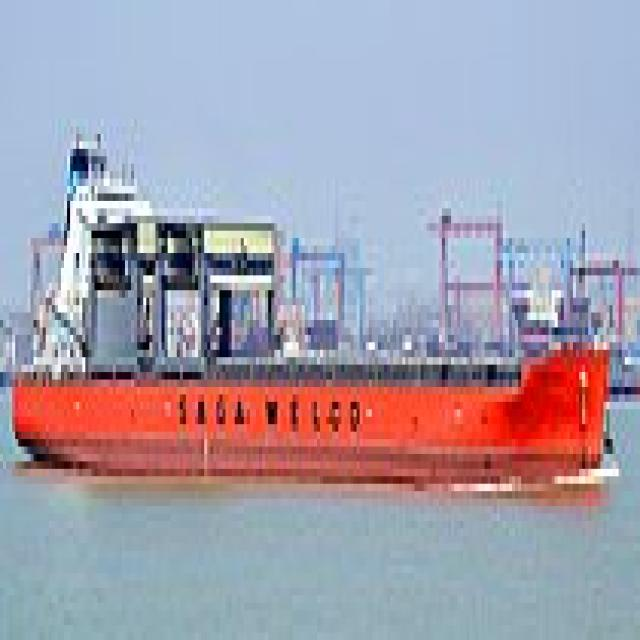Cargo: (6, 111, 613, 484)
